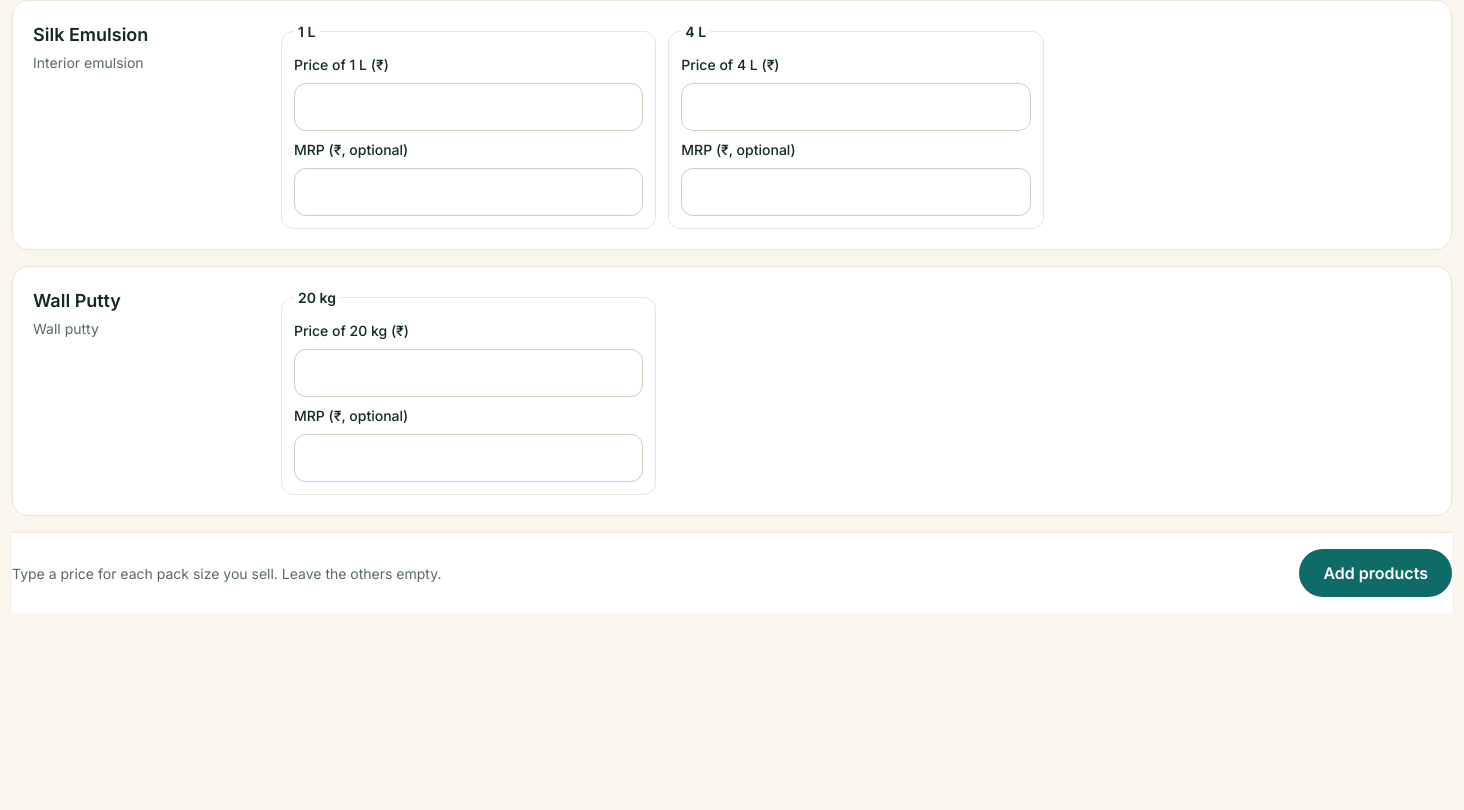
it: QuickAddForm › shows errors next to the fields and keeps the typed prices
This screenshot has width=1464, height=810.
Type "600" into the field labelled "Price of 1 L (₹)". click: x=469, y=107
box: [294, 83, 643, 131]
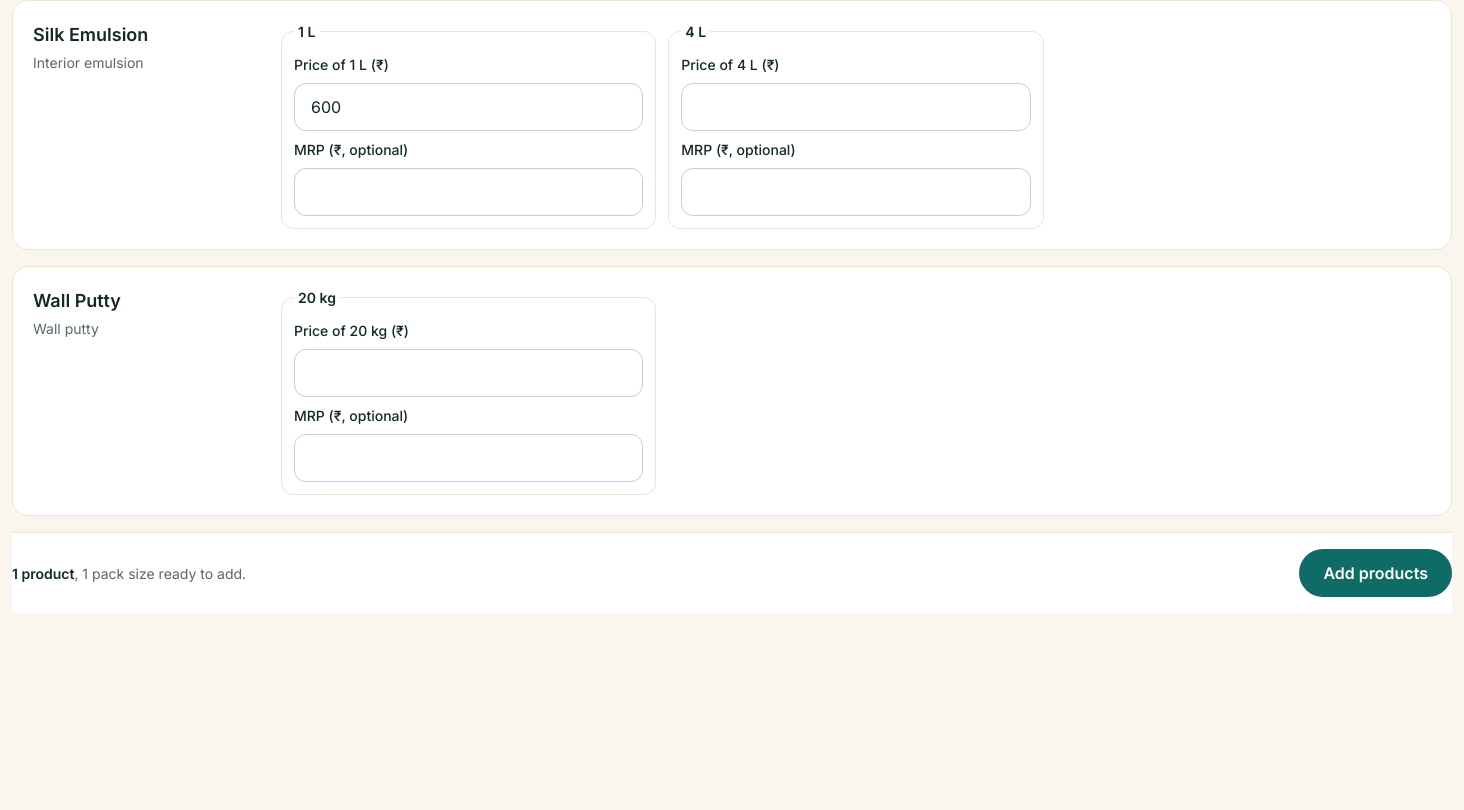
Submit the form named "Add products"
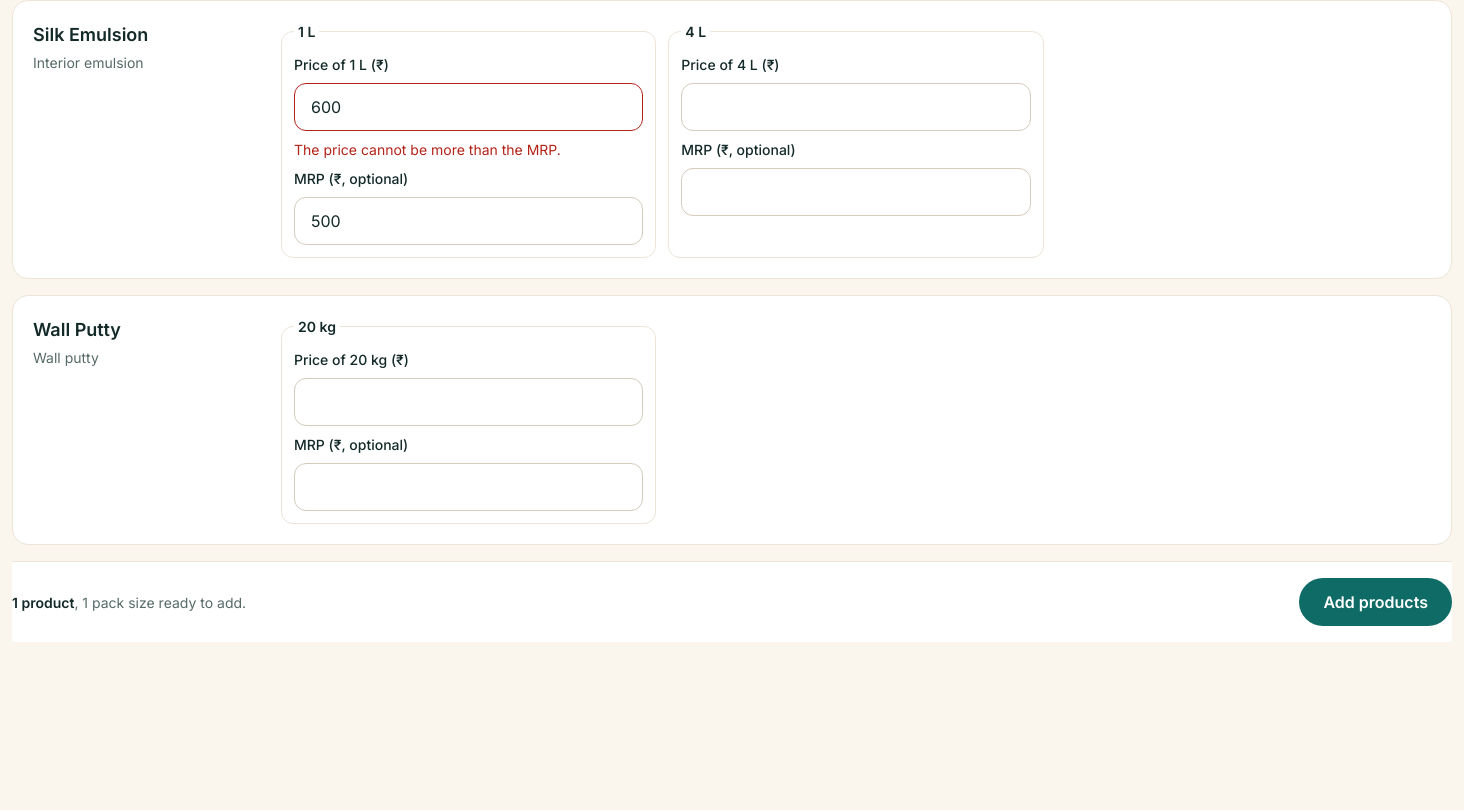
Check: the text "The price cannot be more than the MRP." is shown, box [294, 141, 561, 158]
